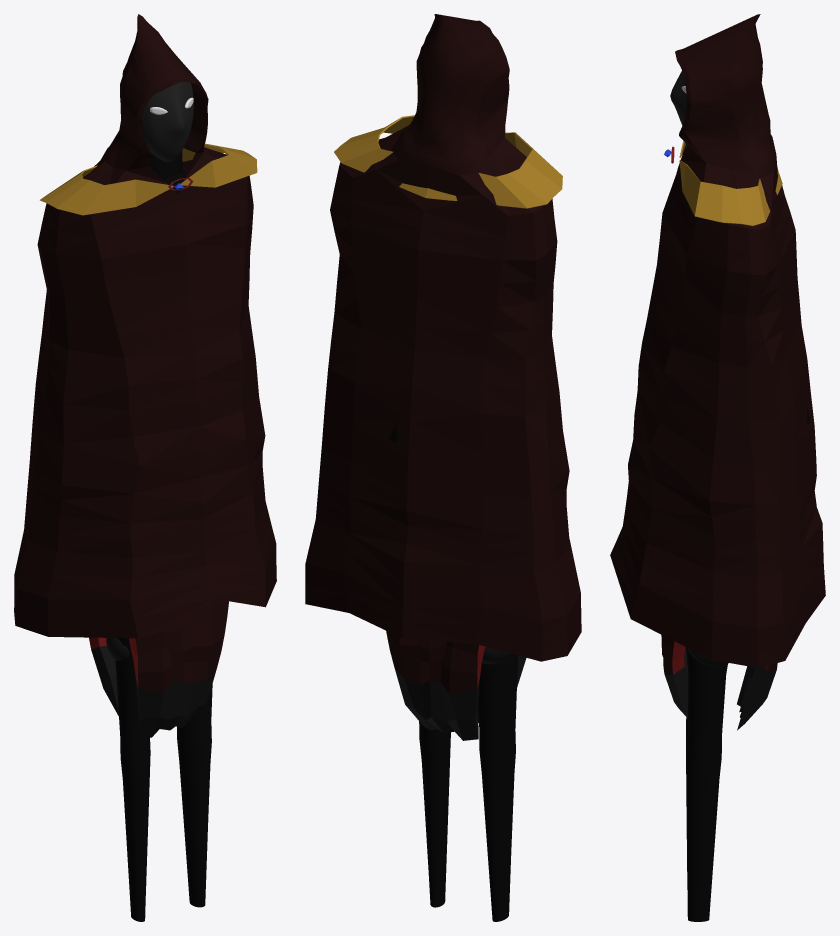
The model's file is MAV2.FBX.
The picture shows the model from 3 angles, left to right: view 1: azimuth 30°, elevation 25°; view 2: azimuth 150°, elevation 25°; view 3: azimuth 270°, elevation 25°; orthographic projection. The views are drawn at different scales.
Visible parts, largest first — view 1: HOOD006, CLOTH FRONT008, LEG L024, mavric v1 002, LEG L022, FACE006, CLOTH FRONT009, NECK006; view 2: HOOD006, LEG L024, CLOTH FRONT009, mavric v1 002, LEG L022; view 3: HOOD006, LEG L022, mavric v1 002, CLOTH FRONT008, CLOTH FRONT009, FACE006.
Boxes of the visible parts, x1,y1,x2,y2 form: HOOD006: (14, 14, 276, 638); CLOTH FRONT008: (129, 598, 228, 737); LEG L024: (115, 638, 150, 921); mavric v1 002: (40, 143, 257, 215); LEG L022: (177, 684, 212, 907); FACE006: (141, 82, 193, 161); CLOTH FRONT009: (89, 637, 118, 716); NECK006: (149, 151, 182, 180); HOOD006: (305, 14, 581, 661); LEG L024: (478, 654, 518, 921); CLOTH FRONT009: (386, 630, 485, 740); mavric v1 002: (334, 115, 562, 442); LEG L022: (419, 721, 450, 907); HOOD006: (610, 14, 825, 667); LEG L022: (686, 647, 727, 921); mavric v1 002: (679, 141, 809, 423); CLOTH FRONT008: (661, 635, 688, 718); CLOTH FRONT009: (737, 663, 777, 730); FACE006: (670, 71, 686, 125).
Bounding box in the file's own units: 619 × 2085 × 457.
